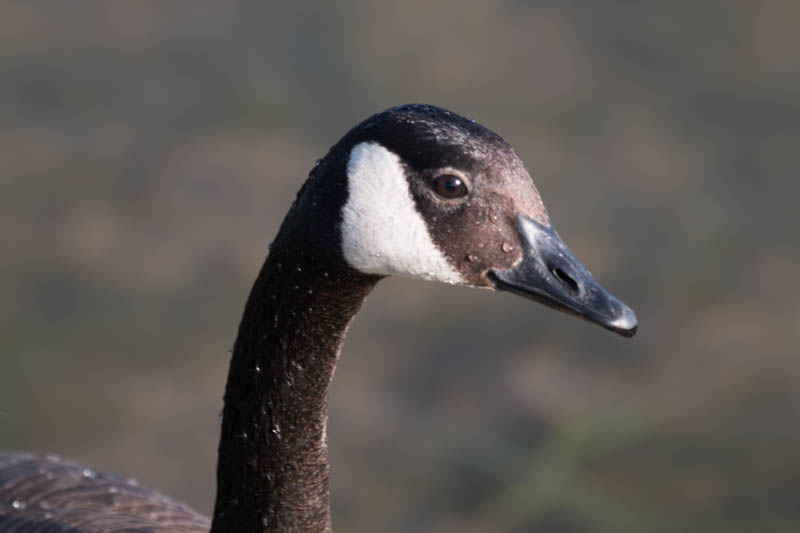goose-head: (311, 102, 641, 339)
